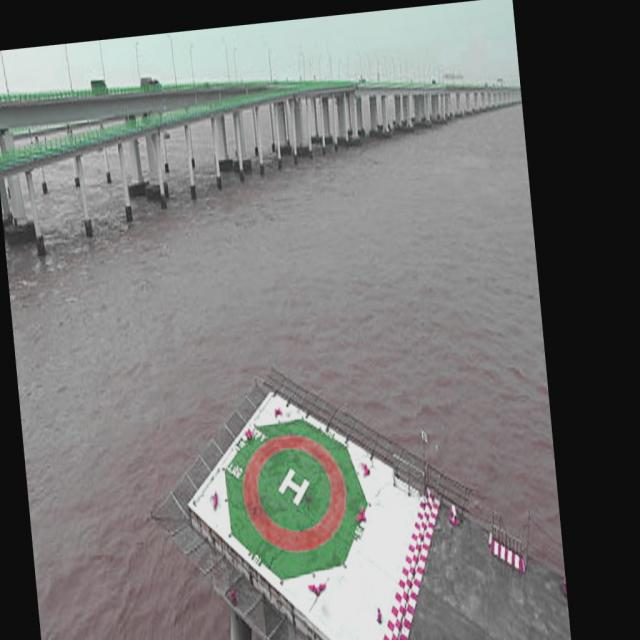helipad: (242, 431, 348, 552)
